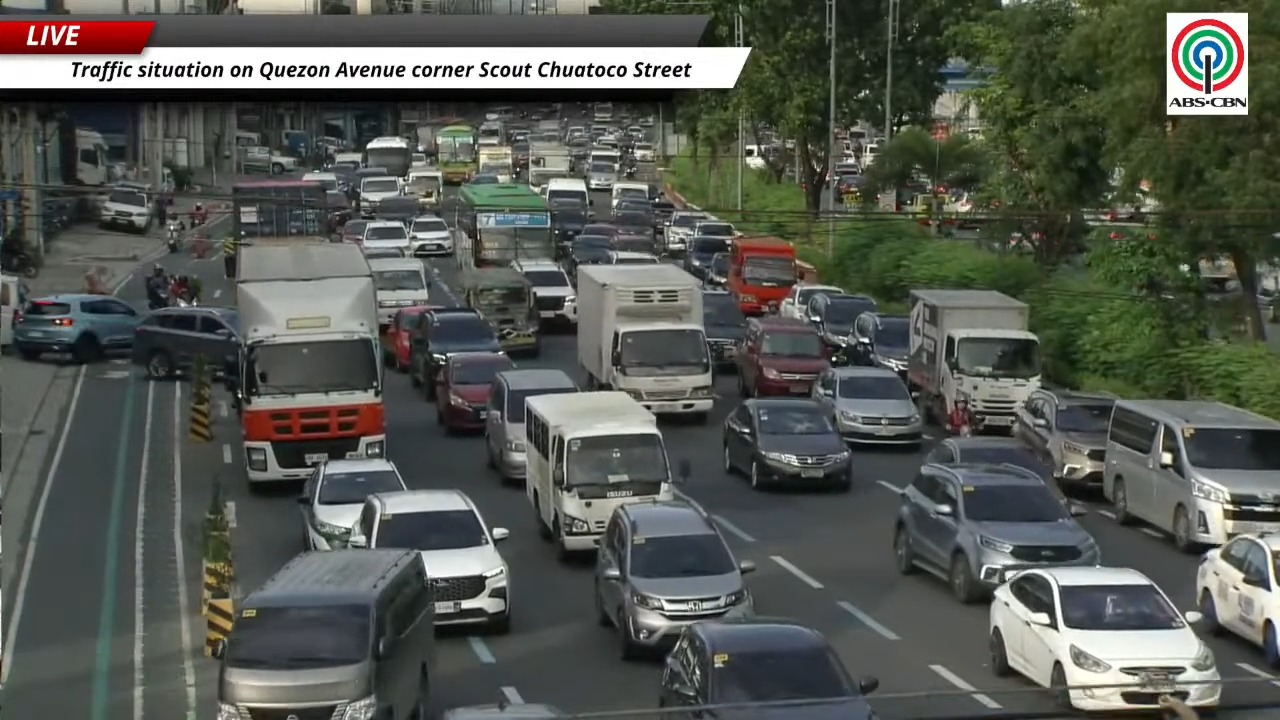bus: (455, 183, 554, 266), (231, 180, 331, 242), (436, 124, 477, 183), (363, 136, 414, 177), (478, 121, 505, 145), (592, 102, 613, 122)
car: (989, 567, 1221, 712), (893, 463, 1099, 603), (593, 500, 754, 658), (348, 489, 510, 633), (658, 616, 878, 719), (926, 436, 1086, 515), (722, 398, 851, 490), (1196, 532, 1279, 667), (485, 368, 578, 481), (1013, 388, 1115, 486), (297, 458, 406, 549), (13, 294, 143, 362), (813, 366, 922, 446), (410, 308, 501, 400), (131, 306, 240, 378), (736, 316, 829, 396), (435, 352, 513, 431), (925, 436, 1052, 484), (368, 258, 429, 330), (511, 260, 576, 324), (846, 312, 909, 377), (807, 293, 876, 347), (381, 306, 436, 371), (702, 289, 746, 367), (99, 188, 152, 232), (564, 235, 611, 284), (663, 210, 714, 254), (440, 702, 568, 719), (683, 236, 730, 280), (358, 174, 401, 217), (408, 215, 453, 256), (548, 199, 589, 244), (360, 220, 411, 254), (238, 146, 297, 175), (376, 195, 420, 225), (612, 210, 652, 241), (612, 228, 659, 254), (614, 197, 654, 226), (325, 191, 353, 232), (650, 196, 676, 233), (692, 219, 739, 239), (704, 252, 730, 287), (585, 162, 617, 190), (300, 171, 339, 192), (340, 218, 368, 243), (609, 250, 659, 264), (580, 222, 618, 237), (363, 248, 407, 260), (468, 173, 500, 184)
motorcycle: (0, 247, 38, 278), (166, 223, 180, 252), (189, 209, 206, 227)
truck: (226, 243, 384, 486), (525, 391, 673, 558), (576, 263, 713, 420), (908, 289, 1041, 431), (726, 236, 795, 315), (527, 142, 574, 191), (478, 145, 513, 183)
